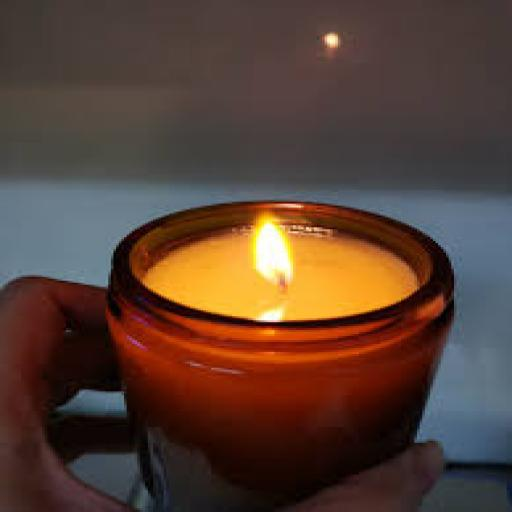fire: (322, 32, 338, 47)
